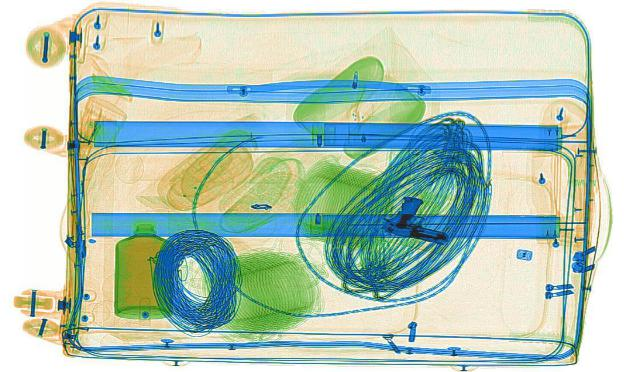Gun: (374, 195, 470, 244)
